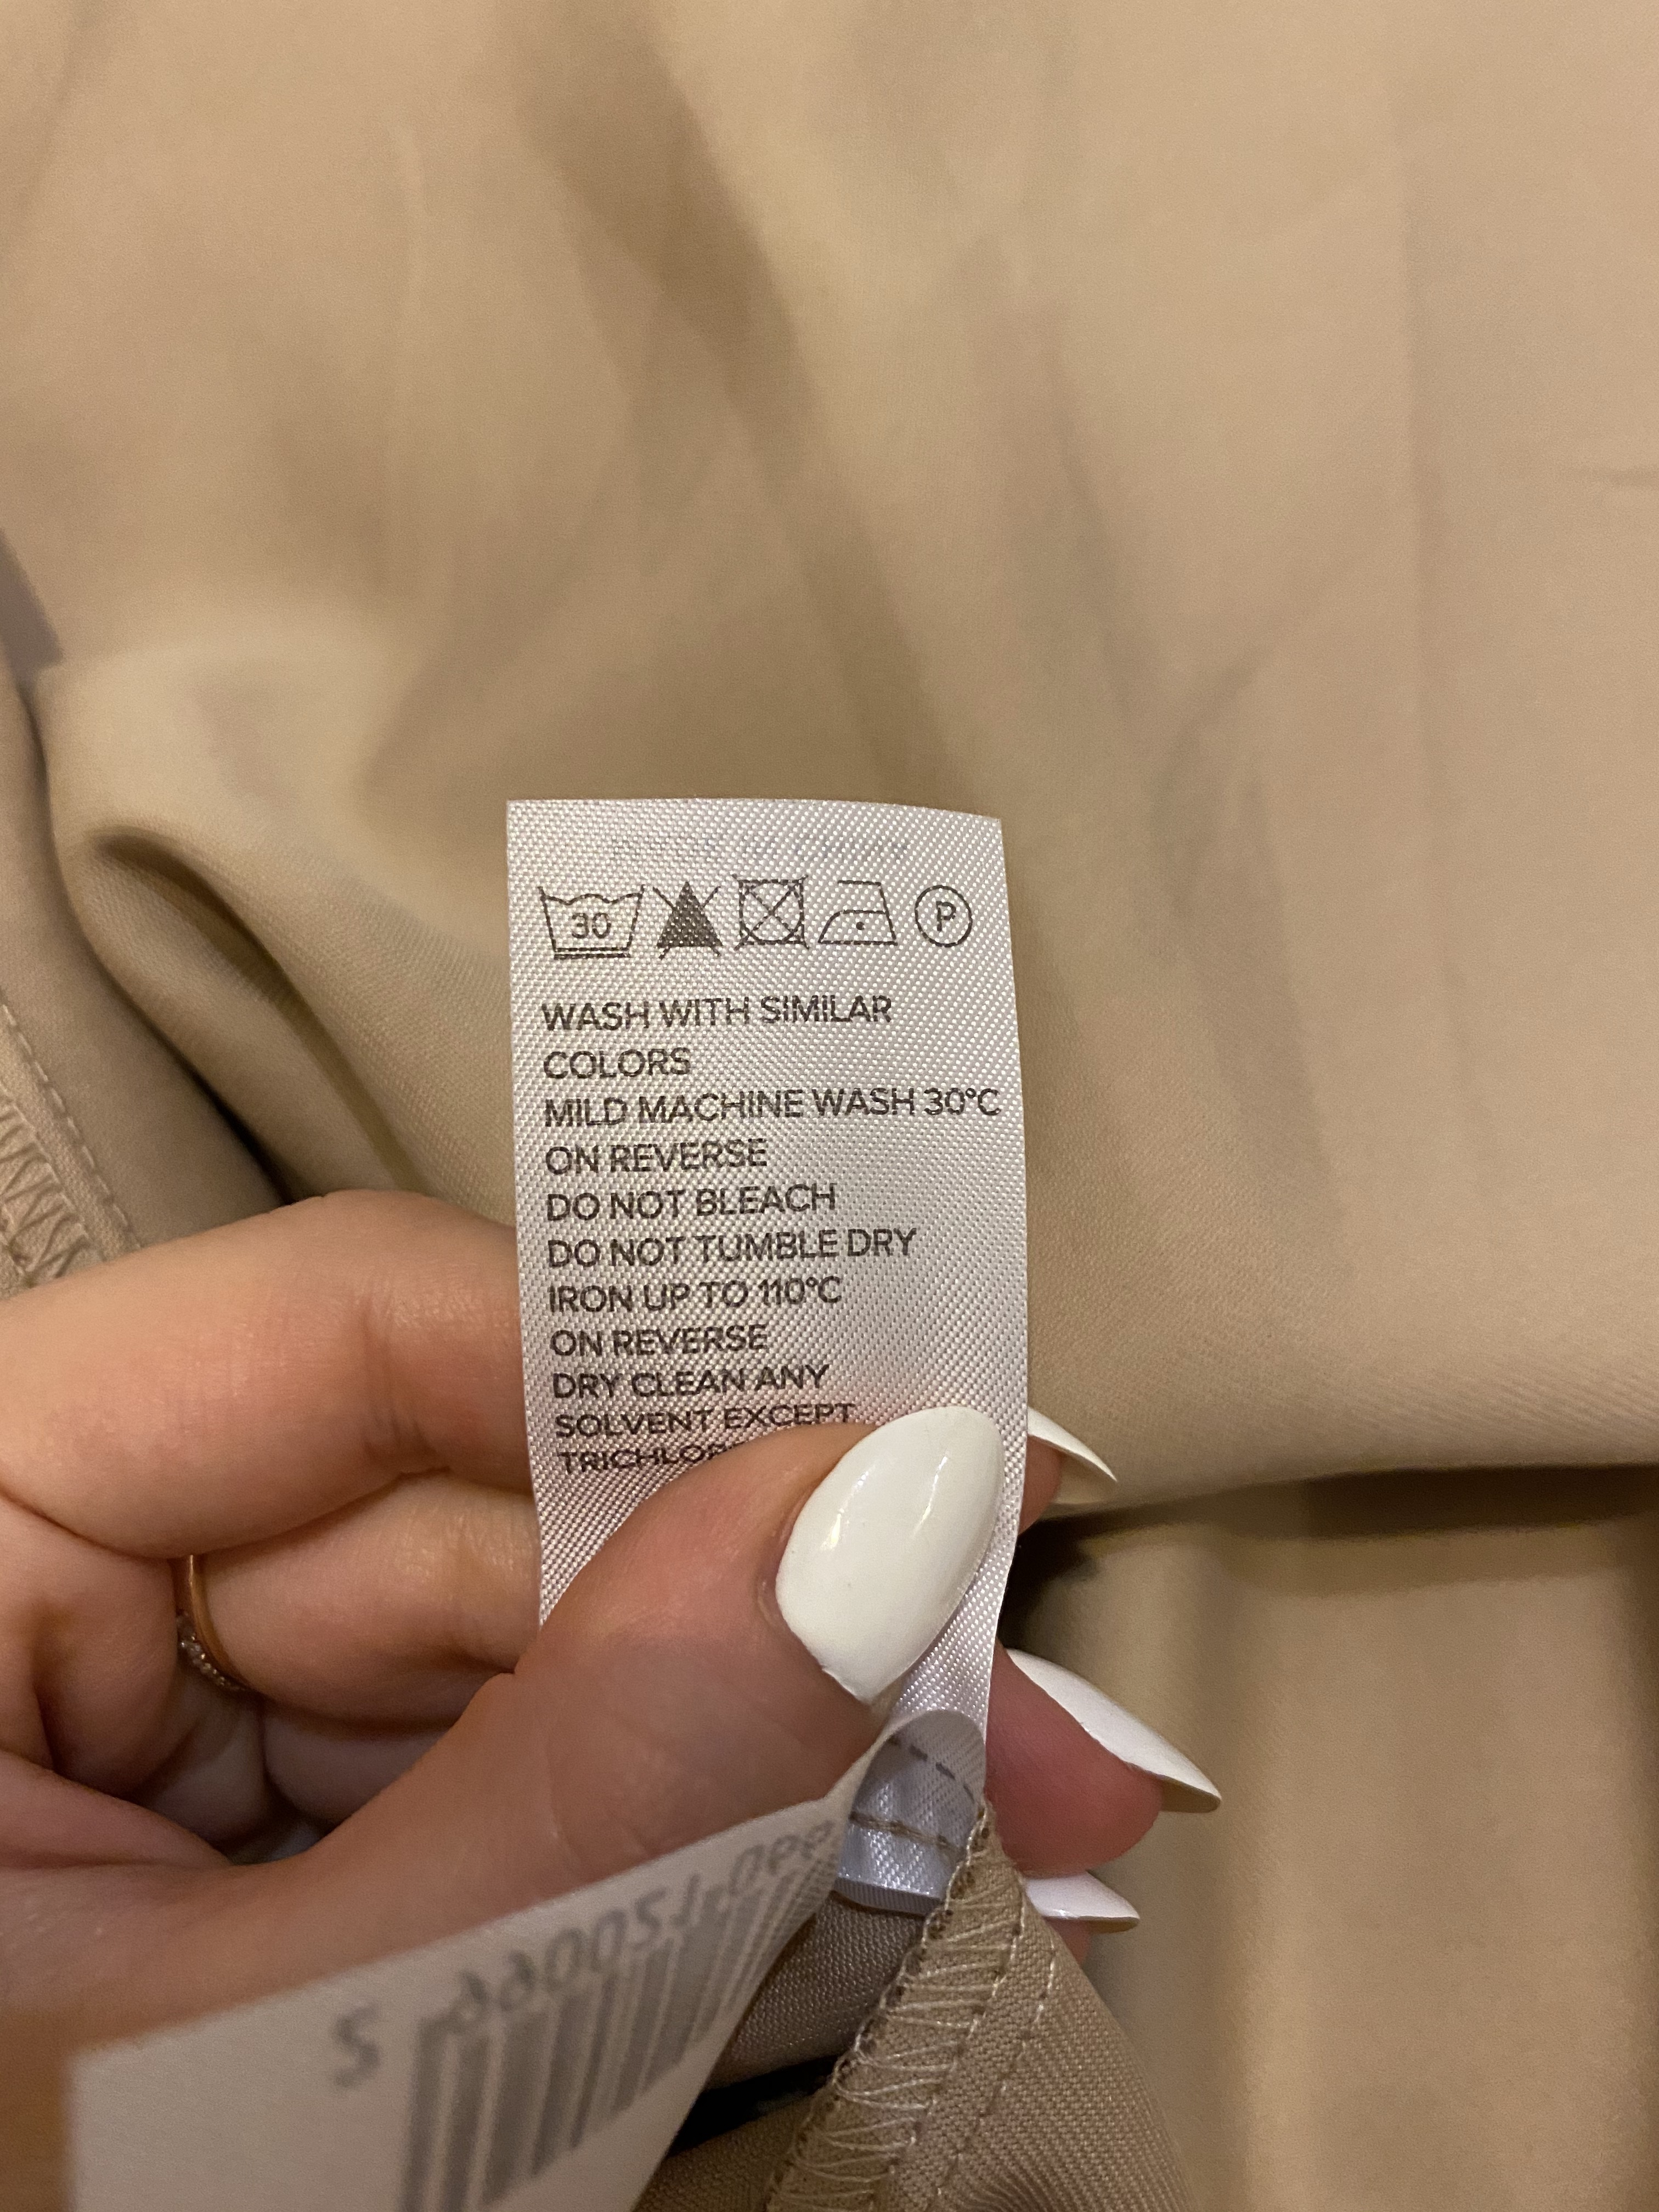do_not_bleach: (648, 874, 728, 967)
do_not_tumble_drying: (728, 871, 816, 954)
dry_clean_tetrachloroethylene_pce_only: (911, 878, 978, 953)
ironing_at_low_temp: (816, 874, 903, 953)
wash_at_or_below_30_mild_fine_wash: (532, 881, 648, 967)
